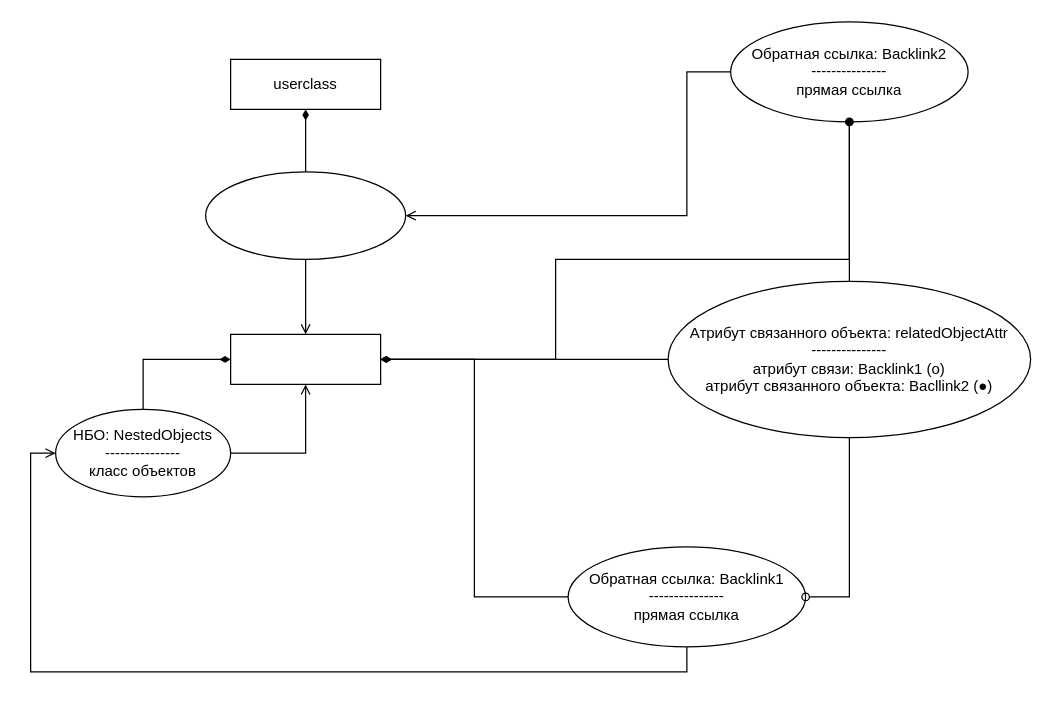
Image size: 1053x704. Some labels were removed from this diagram. The centre of each missing label's shape, as x and y in pixels:
nestedClass: the point at 305,358
НБО: ObjectLinks ------------------------- класс объектов: the point at 305,215
